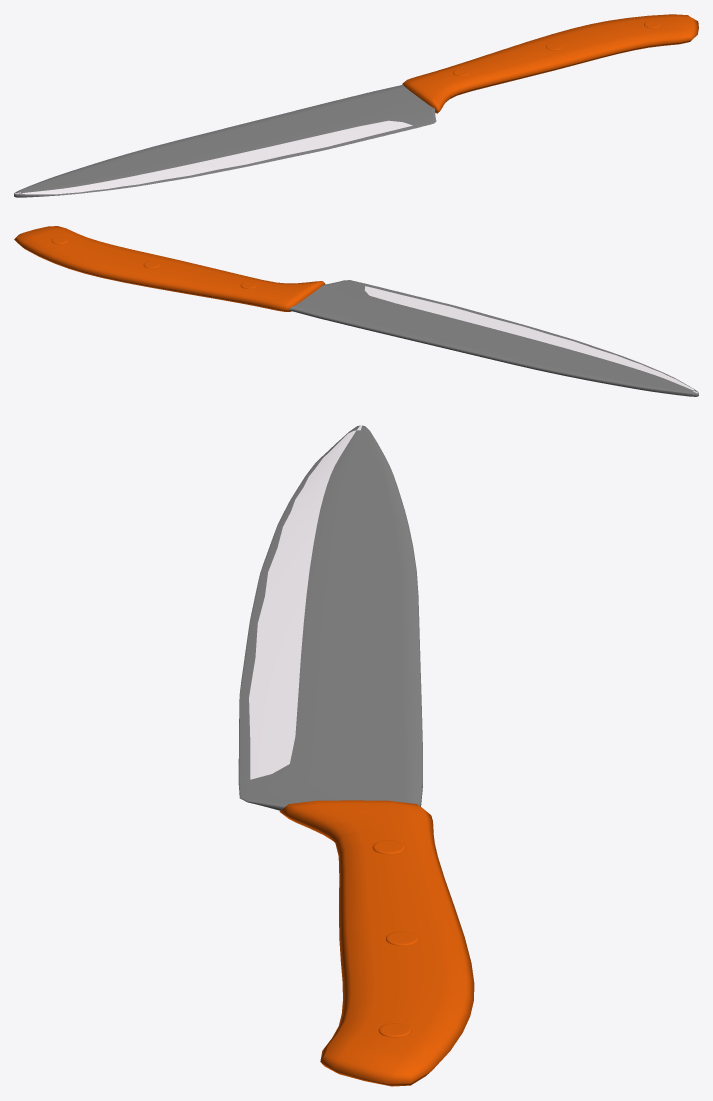
Rendered from Knife.fbx.
The picture shows the model from 3 angles, top to bottom: view 1: azimuth 30°, elevation 25°; view 2: azimuth 150°, elevation 25°; view 3: azimuth 270°, elevation 25°; orthographic projection. The views are drawn at different scales.
Parts seen in each view (by area): view 1: Plane.001; view 2: Plane.001; view 3: Plane.001.
Boxes of the visible parts, x1,y1,x2,y2 form: Plane.001: (14, 14, 698, 197); Plane.001: (14, 226, 698, 396); Plane.001: (238, 425, 474, 1086).
Size of the model in its own units: 192 by 3.34 by 29.03.
